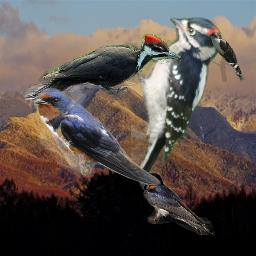Cuckoo: (208, 32, 246, 82)
Swallow: (33, 88, 161, 185), (140, 172, 215, 237)
Woodpecker: (131, 12, 223, 190), (25, 34, 181, 100)
